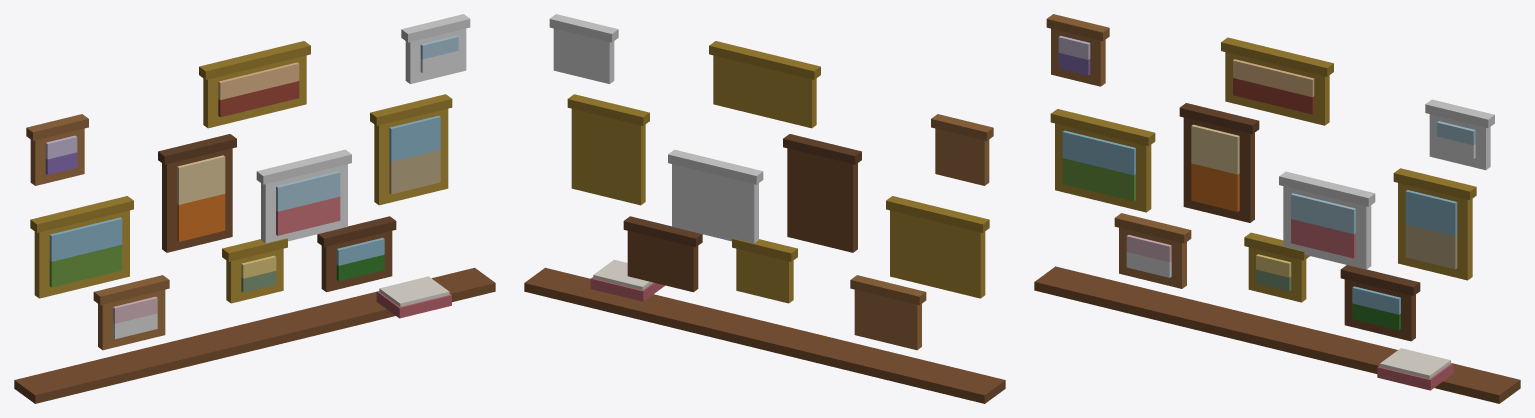
File: memory_wall.glb
The picture shows the model from 3 angles, left to right: view 1: azimuth 30°, elevation 25°; view 2: azimuth 150°, elevation 25°; view 3: azimuth 330°, elevation 25°; orthographic projection.
Parts seen in each view (by area): view 1: furniture-memory_wall; view 2: furniture-memory_wall; view 3: furniture-memory_wall.
Boxes of the visible parts, x1,y1,x2,y2 form: furniture-memory_wall: [14, 14, 495, 403]; furniture-memory_wall: [524, 14, 1005, 403]; furniture-memory_wall: [1034, 14, 1520, 403].
Size of the model in its own units: 2.8 by 1.65 by 0.35.
